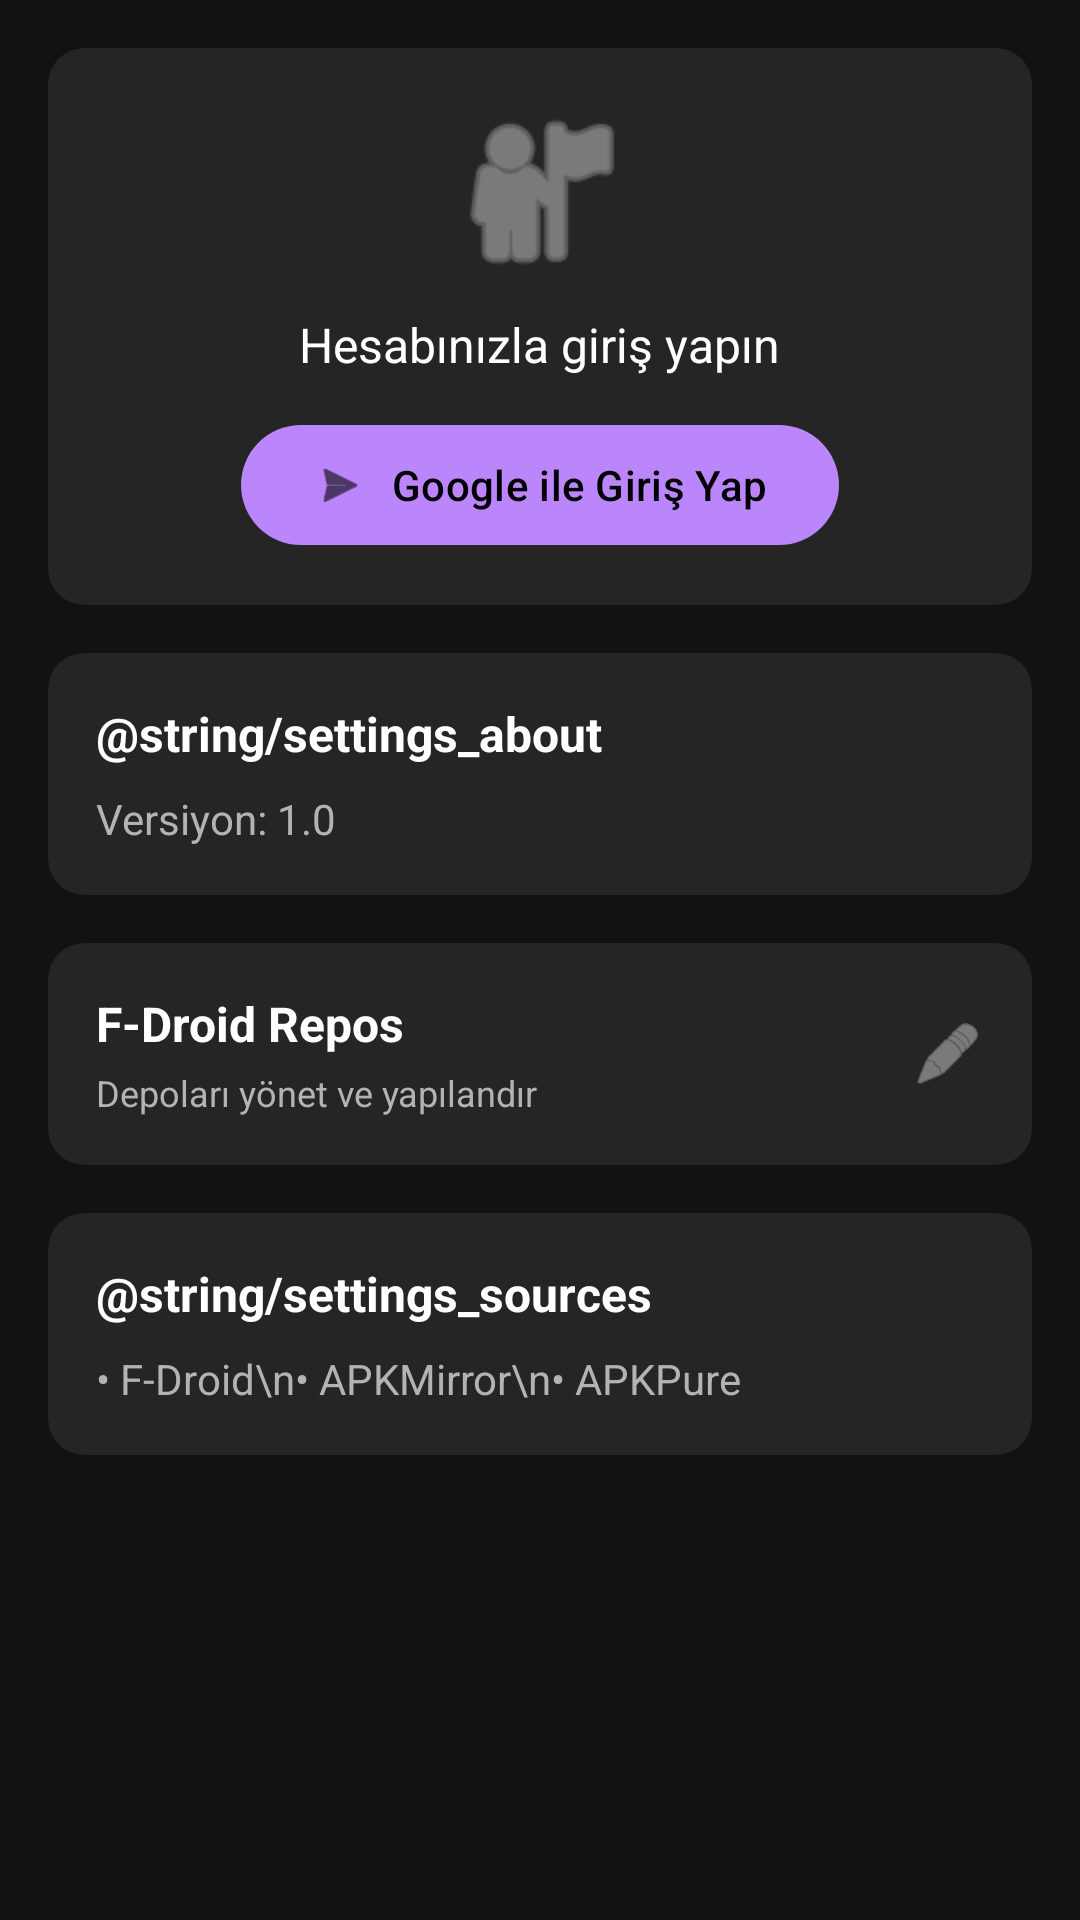

Icon click points for this 1080×1920 phone screenshot, format (x,y):
edit: (947,1053)
myplaces: (542,192)
